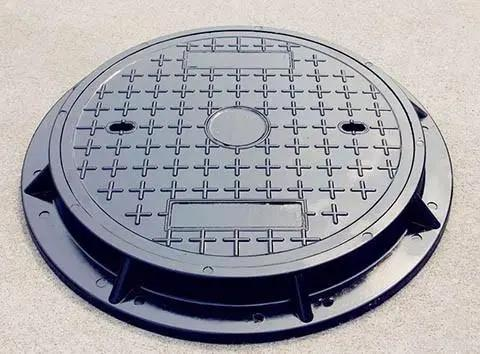wellcover: (25, 12, 449, 345)
